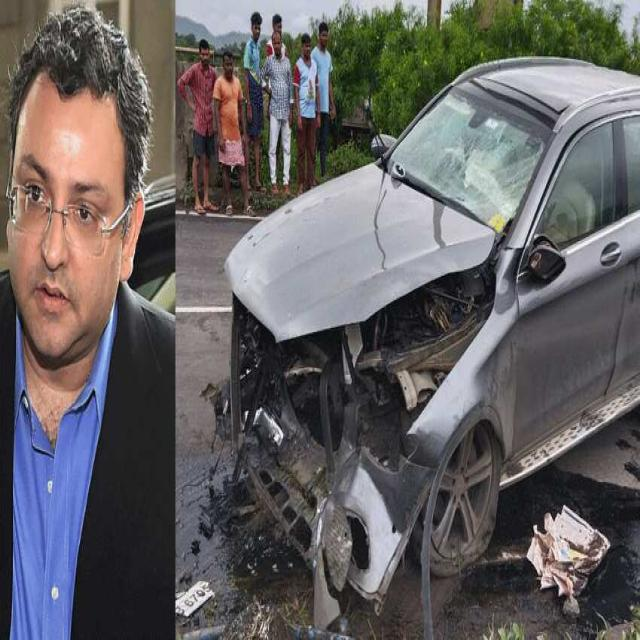accident: (180, 56, 640, 637)
